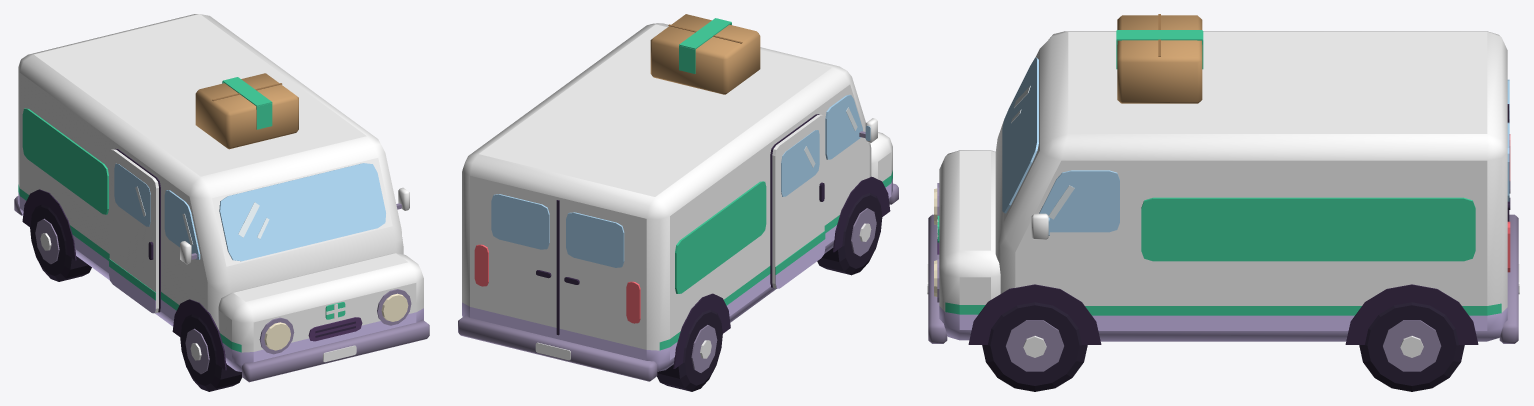
The model's file is DeliveryVan.fbx.
The picture shows the model from 3 angles, left to right: view 1: azimuth 30°, elevation 25°; view 2: azimuth 150°, elevation 25°; view 3: azimuth 270°, elevation 25°; orthographic projection. The views are drawn at different scales.
Parts seen in each view (by area): view 1: DeliveryVan__Frame, DeliveryVan__Door, DeliveryVan__BandRight, DeliveryVan__WheelFR, DeliveryVan__WheelRR, DeliveryVan__Headlights; view 2: DeliveryVan__Frame, DeliveryVan__Door, DeliveryVan__BandRight, DeliveryVan__WheelRR, DeliveryVan__WheelFR, DeliveryVan__Taillights; view 3: DeliveryVan__Frame, DeliveryVan__BandLeft, DeliveryVan__WheelFL, DeliveryVan__WheelRL.
Boxes of the visible parts, left/top/right/bottom form: DeliveryVan__Frame: left=14, top=14, right=429, bottom=382; DeliveryVan__Door: left=109, top=149, right=158, bottom=313; DeliveryVan__BandRight: left=22, top=108, right=108, bottom=214; DeliveryVan__WheelFR: left=180, top=314, right=242, bottom=391; DeliveryVan__WheelRR: left=30, top=204, right=91, bottom=281; DeliveryVan__Headlights: left=264, top=293, right=408, bottom=350; DeliveryVan__Frame: left=458, top=14, right=898, bottom=381; DeliveryVan__Door: left=772, top=114, right=825, bottom=288; DeliveryVan__BandRight: left=675, top=181, right=766, bottom=293; DeliveryVan__WheelRR: left=657, top=309, right=722, bottom=391; DeliveryVan__WheelFR: left=817, top=193, right=882, bottom=275; DeliveryVan__Taillights: left=474, top=244, right=640, bottom=323; DeliveryVan__Frame: left=927, top=14, right=1519, bottom=344; DeliveryVan__BandLeft: left=1141, top=197, right=1475, bottom=261; DeliveryVan__WheelFL: left=982, top=302, right=1087, bottom=391; DeliveryVan__WheelRL: left=1359, top=302, right=1464, bottom=391.
Size of the model in its own units: 6.14 by 6.2 by 11.16.
1 material, 1 textured.
